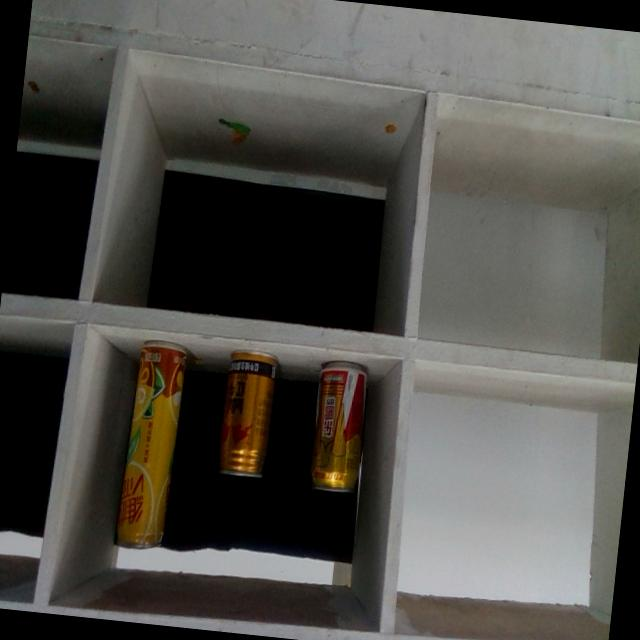can: (112, 335, 190, 556), (302, 356, 375, 502), (212, 343, 282, 488)
